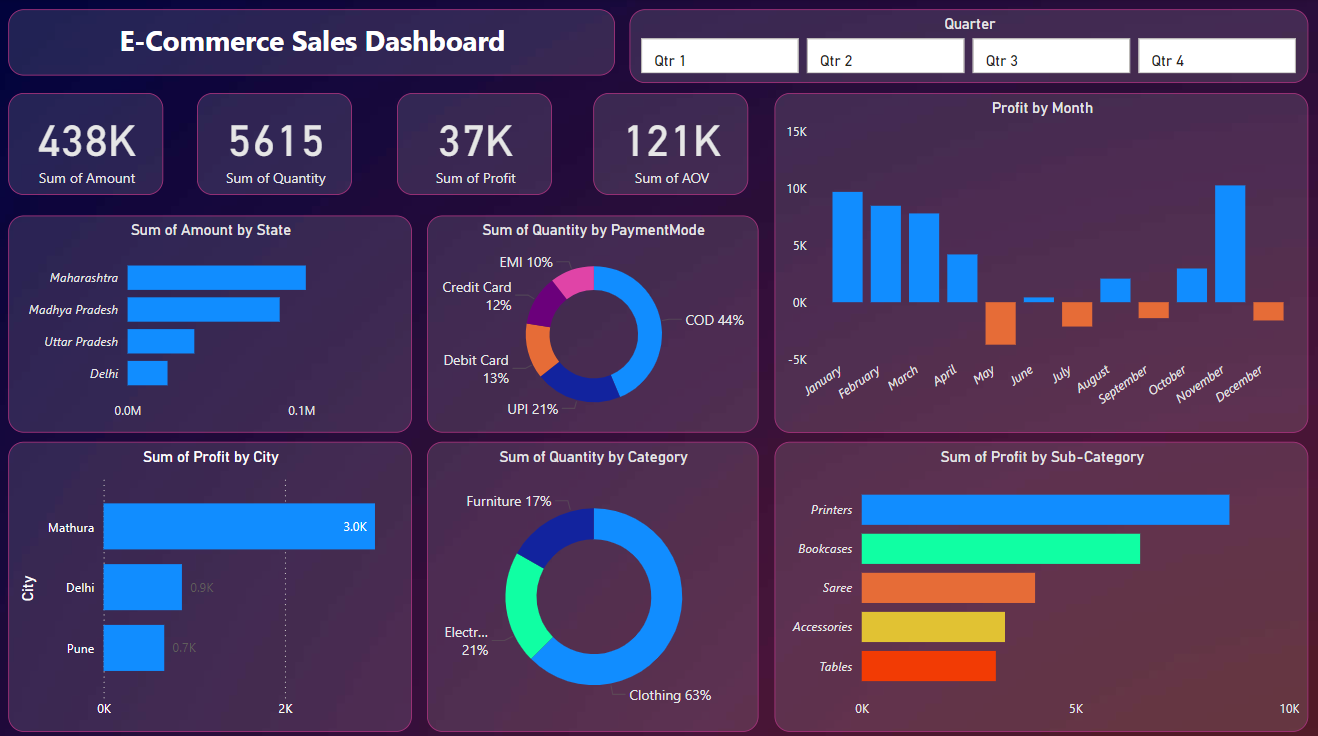

The dashboard page shown, as its layout file describes it:
{"tool":"powerbi","page":{"name":"Page 1","canvas":[1280,720],"ordinal":0},"visuals":[{"type":"textbox","box":[11.1,11.1,585.3,63.6],"z":0},{"type":"columnChart","title":"Profit by Month","fields":{"Y":["Sum(Details.Profit)"],"Category":["Orders.Order Date.Variation.Date Hierarchy.Month"]},"box":[750.8,92.3,515.4,327.7],"z":1000},{"type":"barChart","fields":{"Category":["Details.Sub-Category"],"Y":["Sum(Details.Profit)"]},"box":[750.8,427.9,515.4,279.9],"z":2000},{"type":"donutChart","fields":{"Category":["Details.Category"],"Y":["Sum(Details.Quantity)"]},"box":[415.1,427.9,319.7,279.9],"z":3000},{"type":"donutChart","fields":{"Category":["Details.PaymentMode"],"Y":["Sum(Details.Quantity)"]},"box":[415.1,210,319.7,210],"z":4000},{"type":"card","fields":{"Values":["Sum(Details.Amount)"]},"box":[11.1,92.3,149.5,98.6],"z":5000},{"type":"card","fields":{"Values":["Sum(Details.Quantity)"]},"box":[192.5,92.3,149.5,98.6],"z":6000},{"type":"card","fields":{"Values":["Sum(Details.Profit)"]},"box":[386.5,92.3,149.5,98.6],"z":7000},{"type":"card","fields":{"Values":["Sum(Details.Avg Order Value(AOV))"]},"box":[575.8,92.3,149.5,98.6],"z":8000},{"type":"barChart","fields":{"Category":["Orders.State"],"Y":["Sum(Details.Amount)"]},"box":[11.1,210,389.7,210],"z":9000},{"type":"barChart","fields":{"Category":["Orders.City"],"Y":["Sum(Details.Profit)"]},"box":[11.1,427.9,389.7,279.9],"z":10000},{"type":"advancedSlicerVisual","fields":{"Values":["Orders.Order Date.Variation.Date Hierarchy.Quarter"]},"box":[610.8,11.1,655.3,71.6],"z":11000}]}

Visuals, with their boxes in screenshot pixels (x1, y1, x2, y2), scaled from the page's 1280x720 canvas onto the 1318x736 screenshot:
textbox: {"x1": 11, "y1": 11, "x2": 614, "y2": 76}
"Profit by Month" columnChart: {"x1": 773, "y1": 94, "x2": 1304, "y2": 429}
barChart - Details.Sub-Category x Sum(Details.Profit): {"x1": 773, "y1": 437, "x2": 1304, "y2": 724}
donutChart - Details.Category x Sum(Details.Quantity): {"x1": 427, "y1": 437, "x2": 757, "y2": 724}
donutChart - Details.PaymentMode x Sum(Details.Quantity): {"x1": 427, "y1": 215, "x2": 757, "y2": 429}
card - Sum(Details.Amount): {"x1": 11, "y1": 94, "x2": 165, "y2": 195}
card - Sum(Details.Quantity): {"x1": 198, "y1": 94, "x2": 352, "y2": 195}
card - Sum(Details.Profit): {"x1": 398, "y1": 94, "x2": 552, "y2": 195}
card - Sum(Details.Avg Order Value(AOV)): {"x1": 593, "y1": 94, "x2": 747, "y2": 195}
barChart - Orders.State x Sum(Details.Amount): {"x1": 11, "y1": 215, "x2": 413, "y2": 429}
barChart - Orders.City x Sum(Details.Profit): {"x1": 11, "y1": 437, "x2": 413, "y2": 724}
advancedSlicerVisual - Orders.Order Date.Variation.Date Hierarchy.Quarter: {"x1": 629, "y1": 11, "x2": 1304, "y2": 85}
